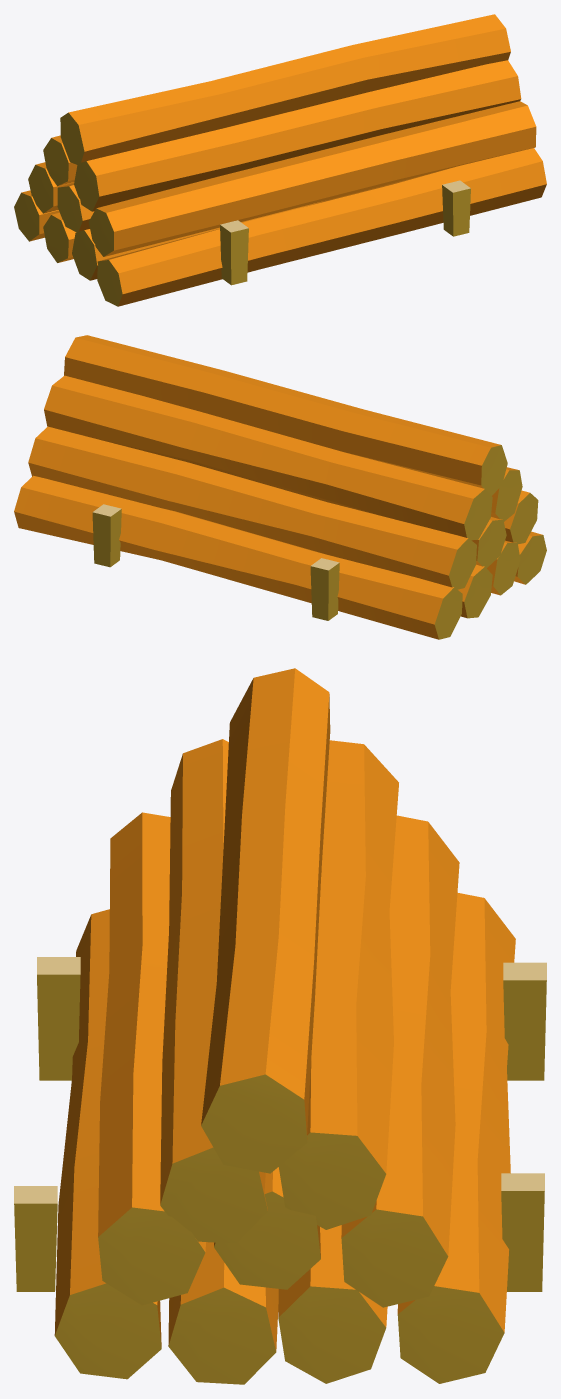
Rendered from logpileB 1.fbx.
The picture shows the model from 3 angles, top to bottom: view 1: azimuth 30°, elevation 25°; view 2: azimuth 150°, elevation 25°; view 3: azimuth 270°, elevation 25°; orthographic projection. The views are drawn at different scales.
Visible parts, largest first — view 1: log_pileB1; view 2: log_pileB1; view 3: log_pileB1.
Boxes of the visible parts, x1,y1,x2,y2 form: log_pileB1: (14,14,546,306); log_pileB1: (14,335,546,639); log_pileB1: (14,668,546,1384).
Size of the model in its own units: 21.97 by 8.19 by 12.02.
